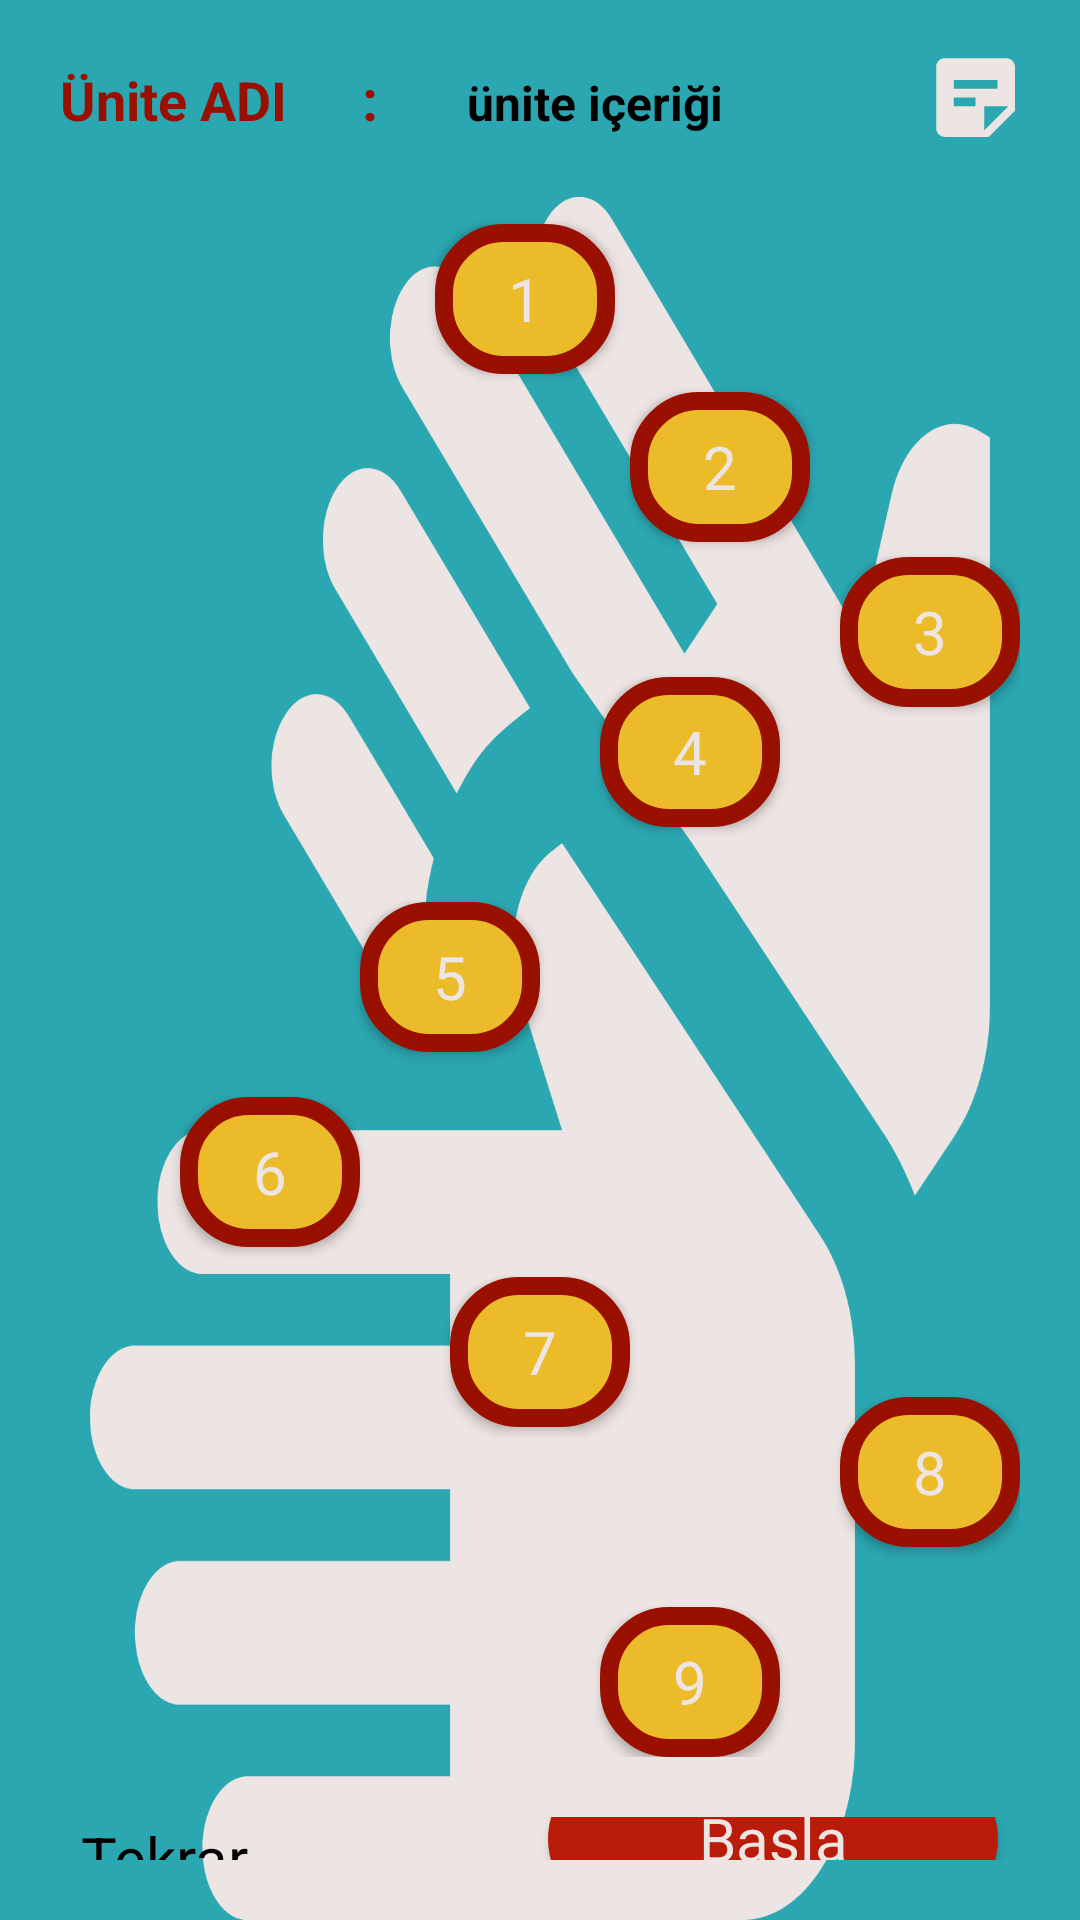

Where icons sit on this 1080px×1920px app screen, as (x1, y1, x2, y2):
note: (936, 58, 1015, 137)
